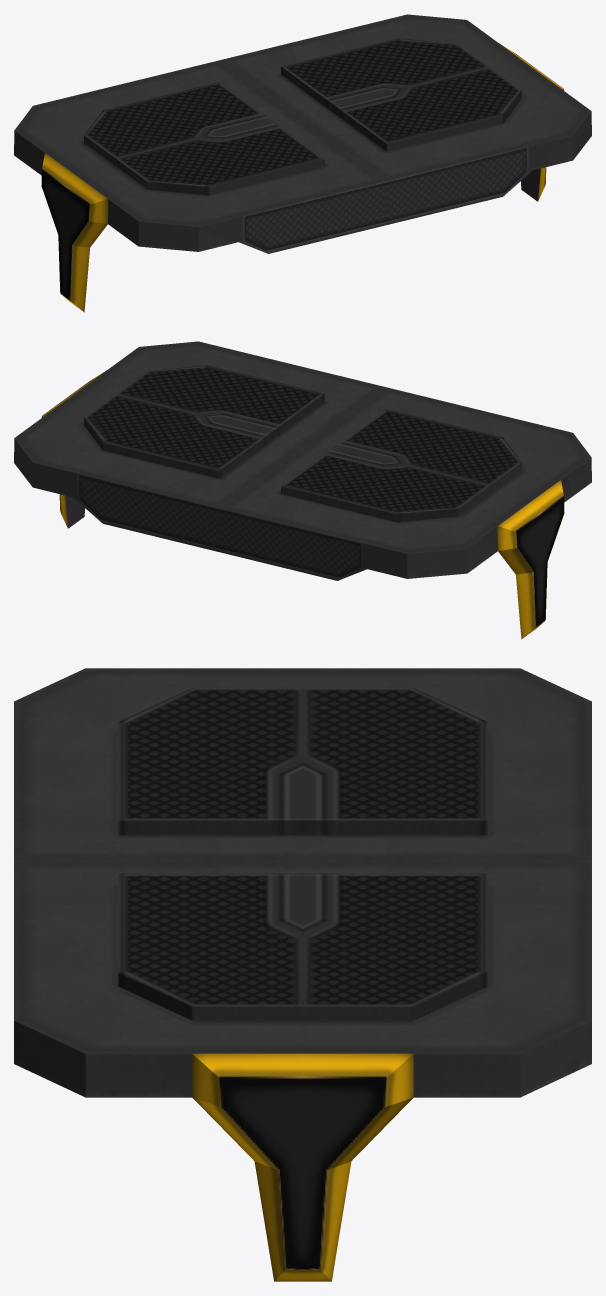
Rendered from flat_light_static.glb.
3 renders of one model, top to bottom at view 1: azimuth 30°, elevation 25°; view 2: azimuth 150°, elevation 25°; view 3: azimuth 270°, elevation 25°, orthographic. The views are drawn at different scales.
Visible parts, largest first — view 1: Cube.094; view 2: Cube.094; view 3: Cube.094.
Boxes of the visible parts, left/top/right/bottom form: Cube.094: left=14, top=14, right=591, bottom=312; Cube.094: left=14, top=341, right=591, bottom=639; Cube.094: left=14, top=668, right=591, bottom=1281.
Bounding box in the file's own units: 9.66 × 2.69 × 5.83.
1 material, 1 textured.
